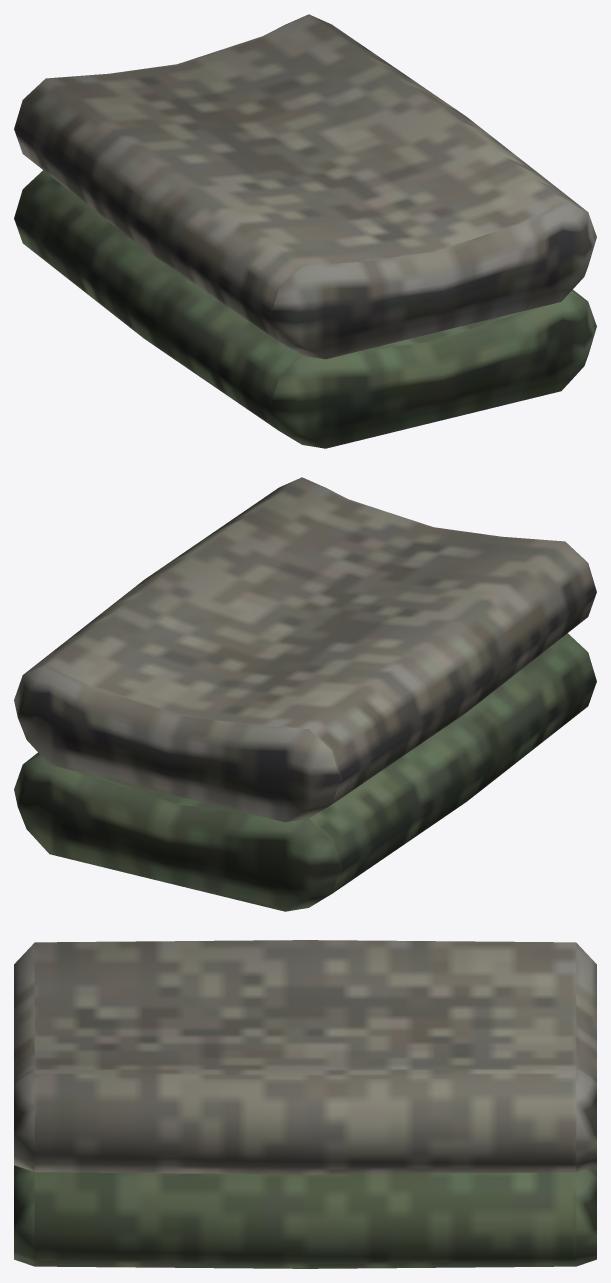
File: EnvObjMD_Spinning_Cloth_A.FBX
3 views of the same model, one above another, from view 1: azimuth 30°, elevation 25°; view 2: azimuth 150°, elevation 25°; view 3: azimuth 270°, elevation 25° (orthographic). The views are drawn at different scales.
Parts seen in each view (by area): view 1: EnvObjMD_Spinning_Cloth_A; view 2: EnvObjMD_Spinning_Cloth_A; view 3: EnvObjMD_Spinning_Cloth_A.
Part boxes in pixels (x1,y1,x2,y2): EnvObjMD_Spinning_Cloth_A: [14, 14, 596, 448]; EnvObjMD_Spinning_Cloth_A: [14, 477, 596, 911]; EnvObjMD_Spinning_Cloth_A: [14, 940, 596, 1268].
Bounding box in the file's own units: 100 × 50 × 140.
